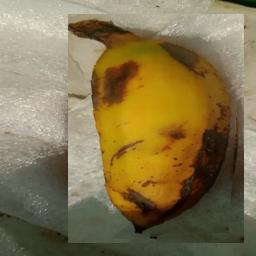Banana Semirotten: (68, 14, 244, 243)
